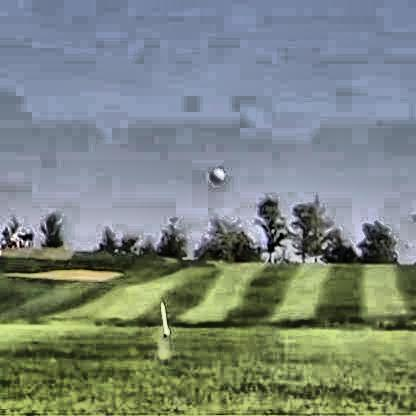golfball: (206, 164, 222, 182)
